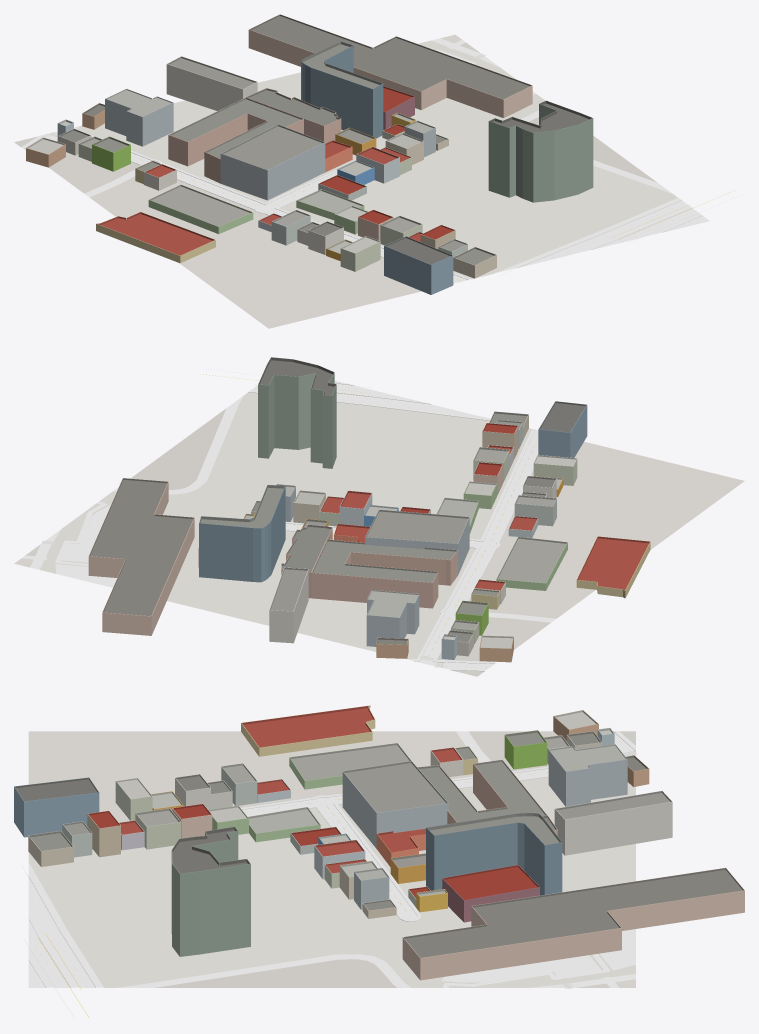
The picture shows the model from 3 angles, top to bottom: view 1: azimuth 30°, elevation 25°; view 2: azimuth 150°, elevation 25°; view 3: azimuth 270°, elevation 25°; orthographic projection. The views are drawn at different scales.
Parts seen in each view (by area): view 1: ground, walls, roofs, asphalt, sidewalk; view 2: ground, roofs, walls, asphalt, sidewalk, grass, concrete; view 3: ground, walls, roofs, asphalt, sidewalk, grass, concrete.
Part boxes in pixels (box(x1,y1,x2,y2)): ground: box(14, 34, 677, 328); walls: box(26, 30, 593, 294); roofs: box(26, 14, 592, 265); asphalt: box(24, 38, 698, 282); sidewalk: box(21, 125, 702, 283); ground: box(14, 392, 744, 676); roofs: box(89, 357, 650, 648); walls: box(88, 373, 650, 662); asphalt: box(21, 383, 556, 669); sidewalk: box(237, 380, 538, 671); grass: box(55, 505, 116, 587); concrete: box(55, 501, 106, 582); ground: box(28, 731, 635, 987); walls: box(14, 706, 744, 980); roofs: box(14, 705, 744, 958); asphalt: box(28, 731, 635, 987); sidewalk: box(28, 731, 635, 987); grass: box(441, 929, 635, 982); concrete: box(28, 944, 635, 987).
Size of what is drawn, in the model's own units: 297 by 37.7 by 301.
